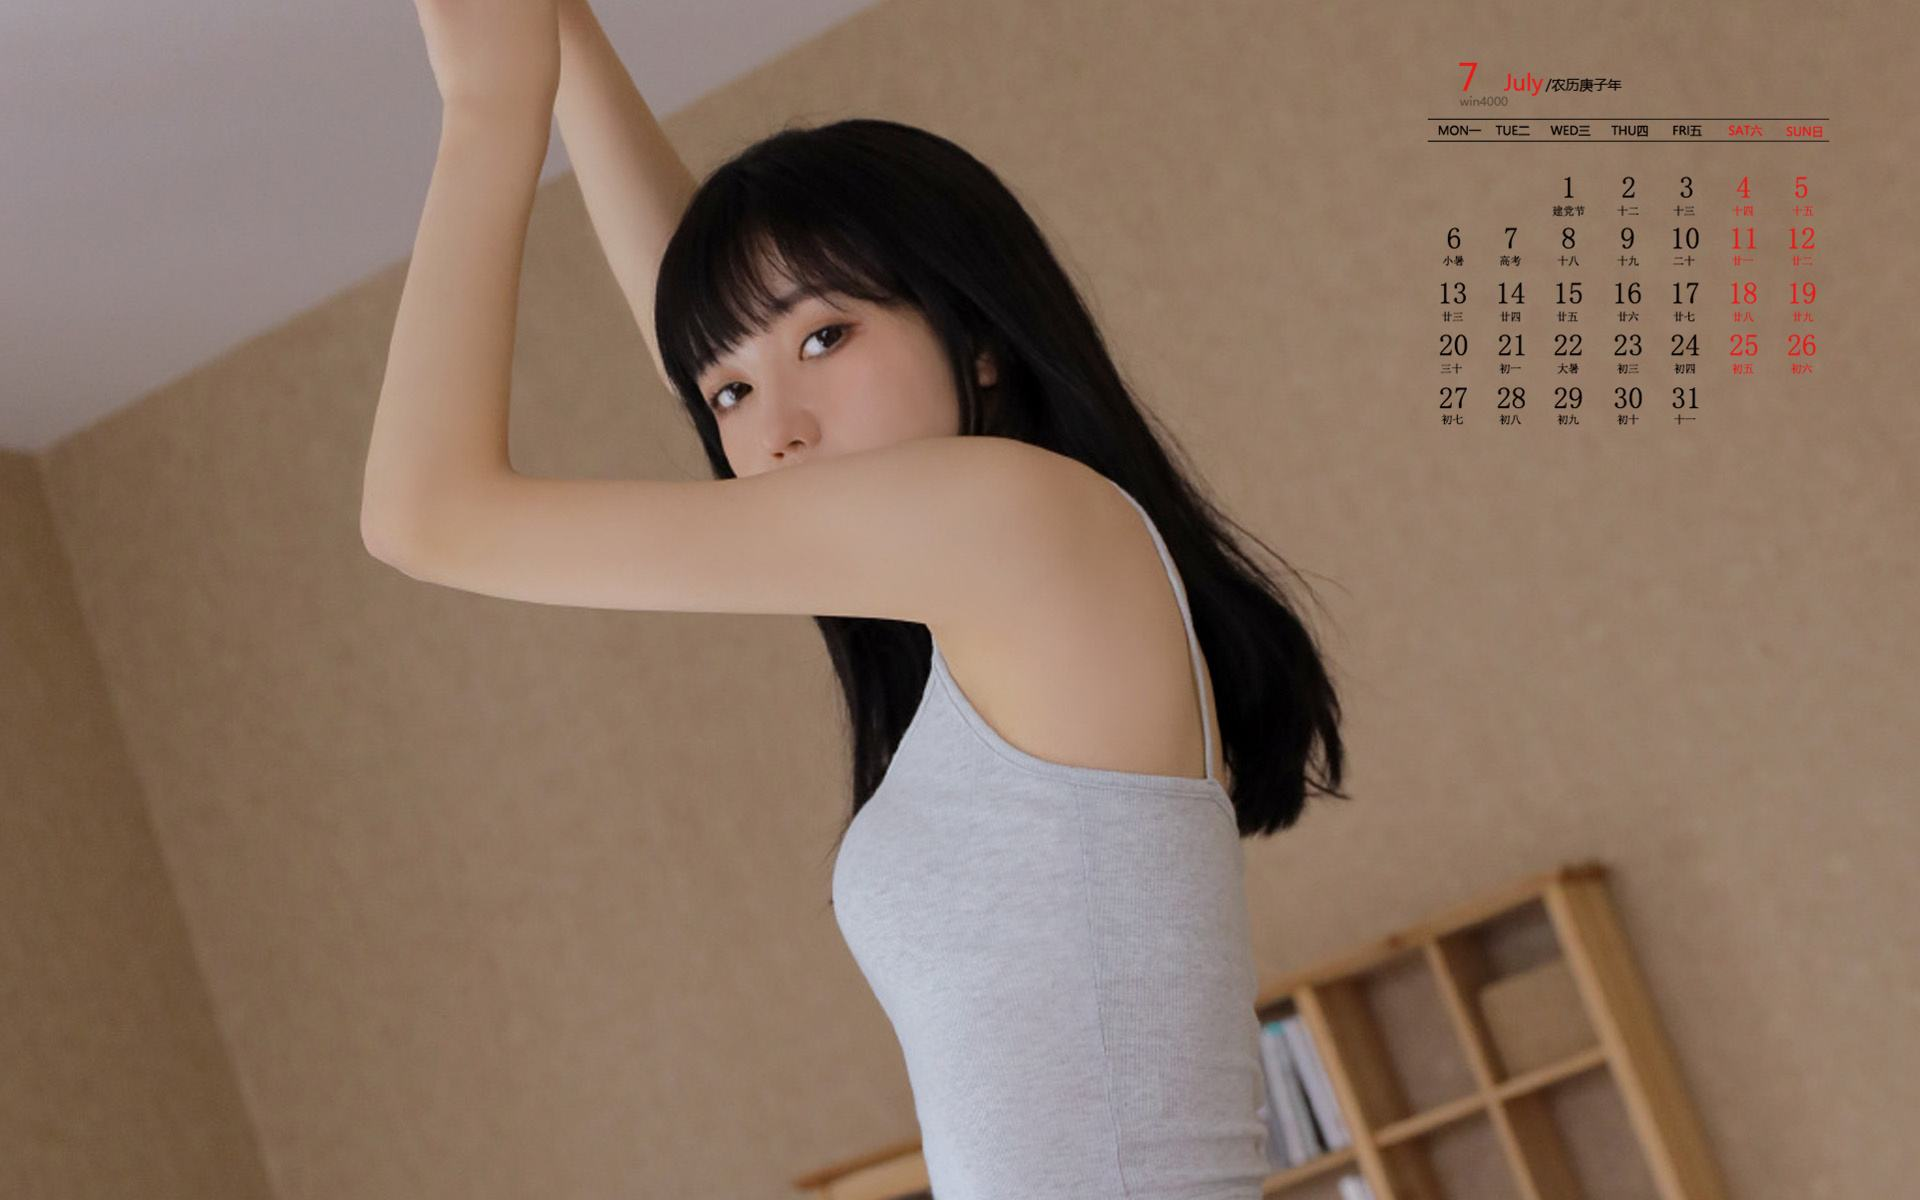person: (409, 112, 1447, 1108)
